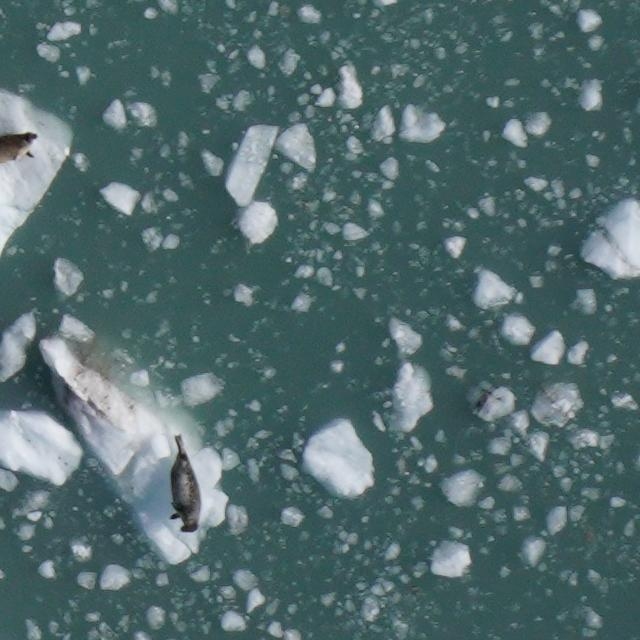seal: (169, 433, 202, 534)
